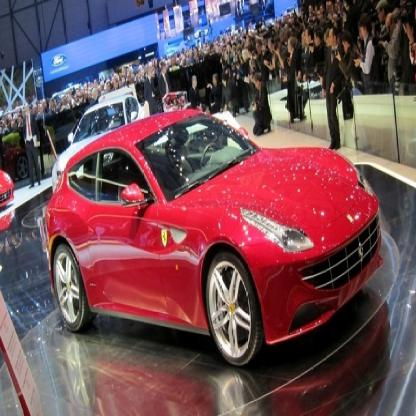Vehicle: (45, 109, 386, 368)
